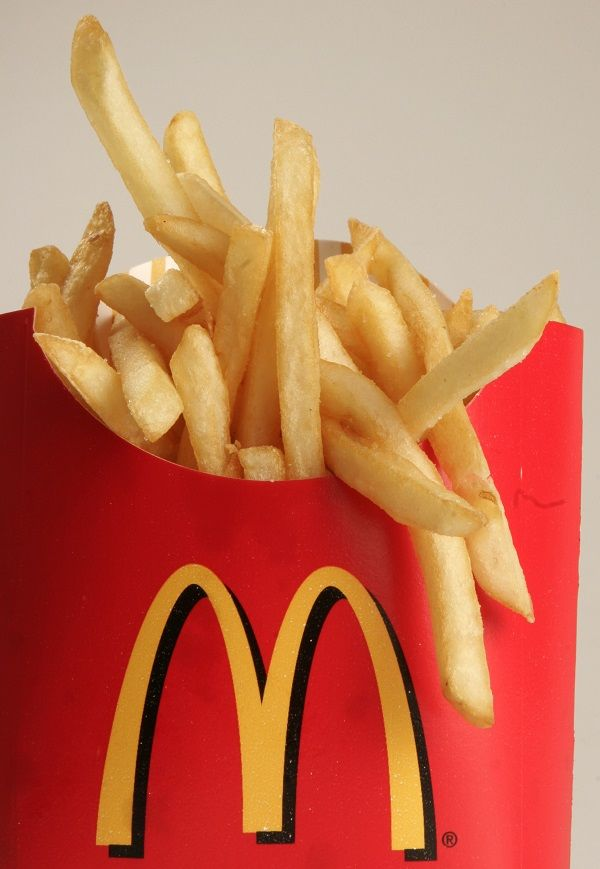mcdonalds: (89, 556, 440, 864)
